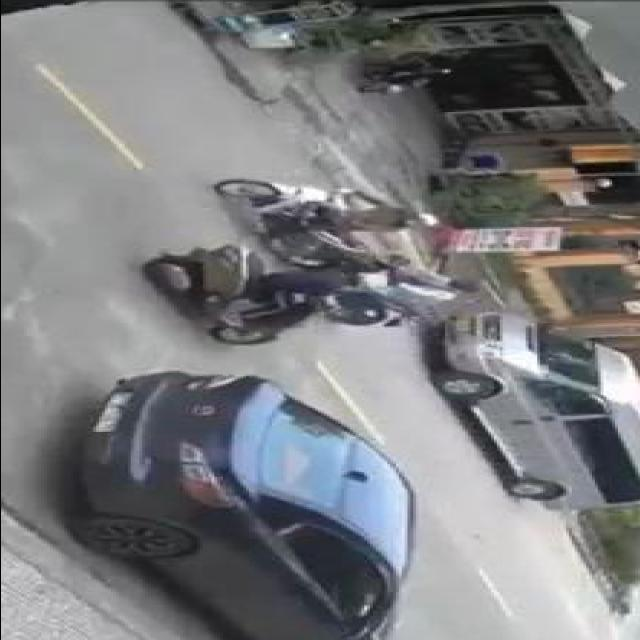accident: (212, 179, 486, 328)
